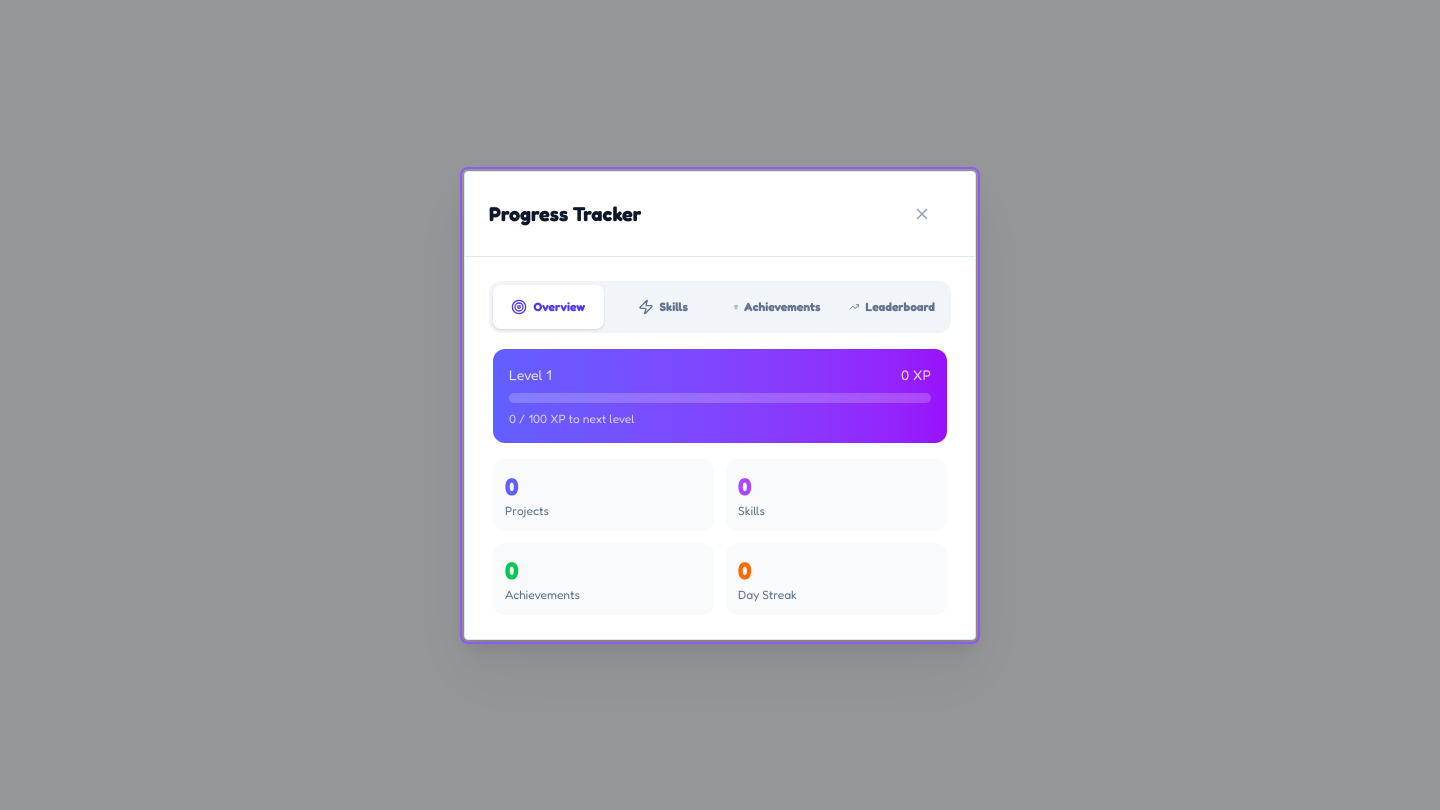
Test: ProgressTracker › should show leaderboard tab
This screenshot has width=1440, height=810.
Click the button "Leaderboard" at (892, 306), box [836,284,947,328]
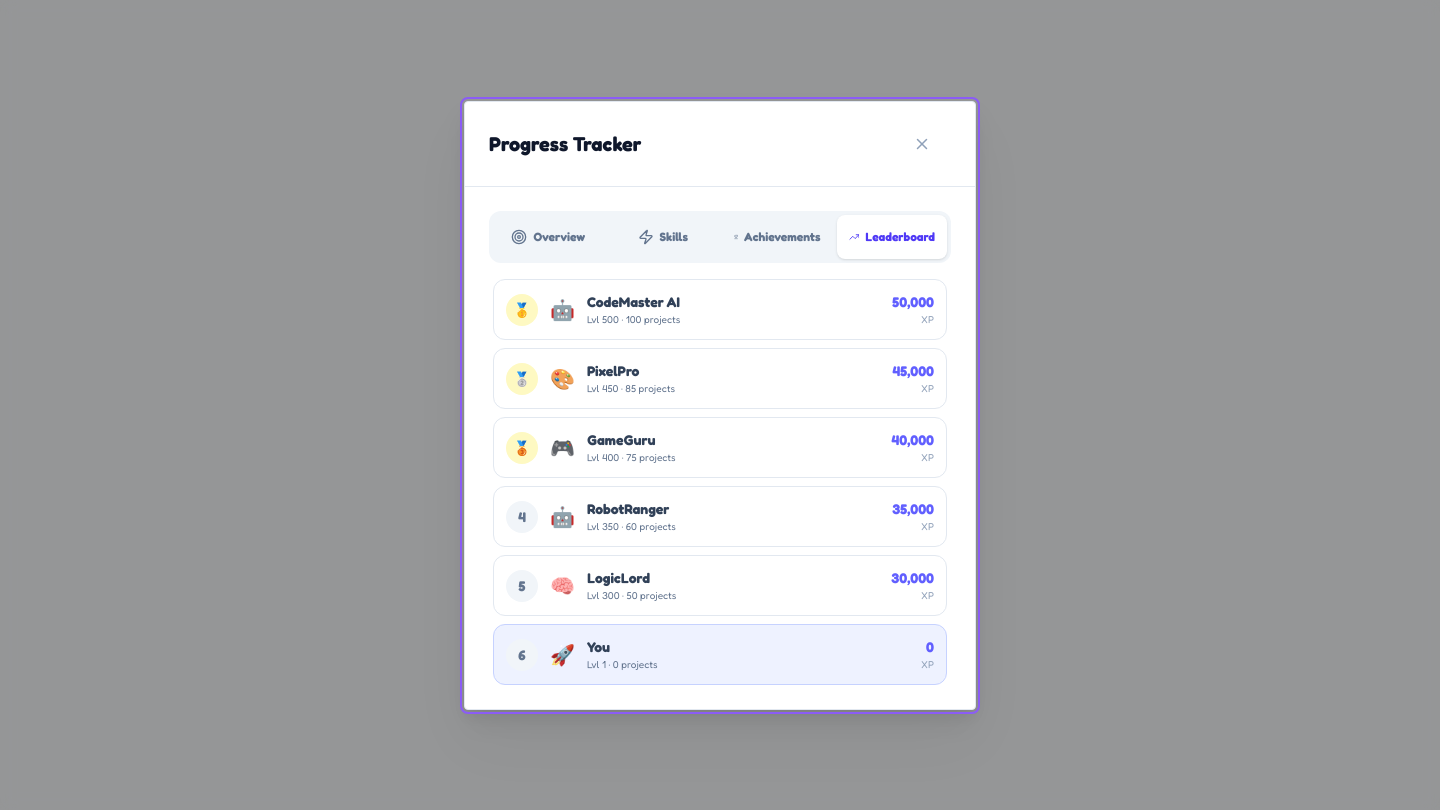
Check: the text "CodeMaster AI" is shown, box [587,292,680,310]
